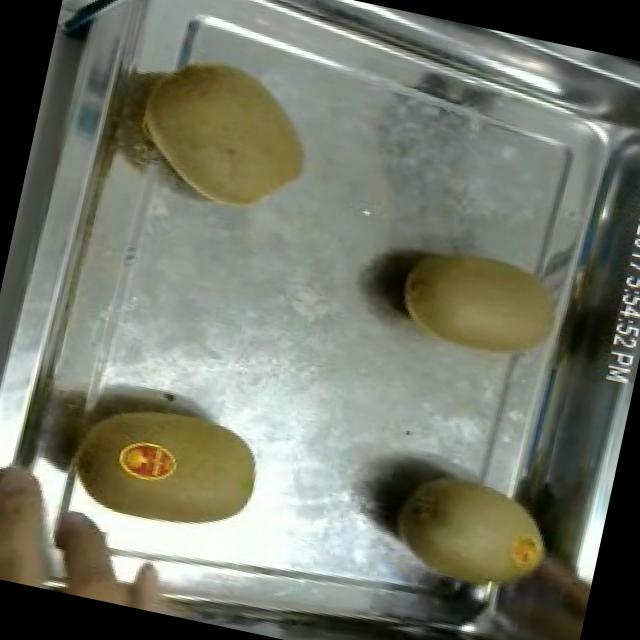Fruit: (116, 38, 332, 232), (364, 447, 576, 628), (379, 228, 575, 378), (94, 422, 220, 524), (103, 428, 190, 497)
